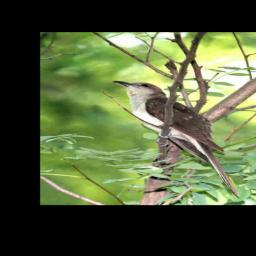Cuckoo: (113, 80, 240, 198)
